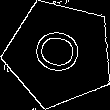O_E: (29, 27, 90, 81)
